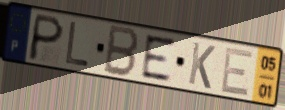B: (101, 23, 141, 80)
E: (219, 46, 255, 99), (140, 33, 177, 83)
K: (187, 40, 218, 91)
L: (64, 20, 91, 69)
P: (25, 12, 67, 63)
